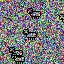sheep: (22, 28, 38, 40), (8, 46, 24, 58), (26, 7, 41, 19), (11, 53, 25, 64)
